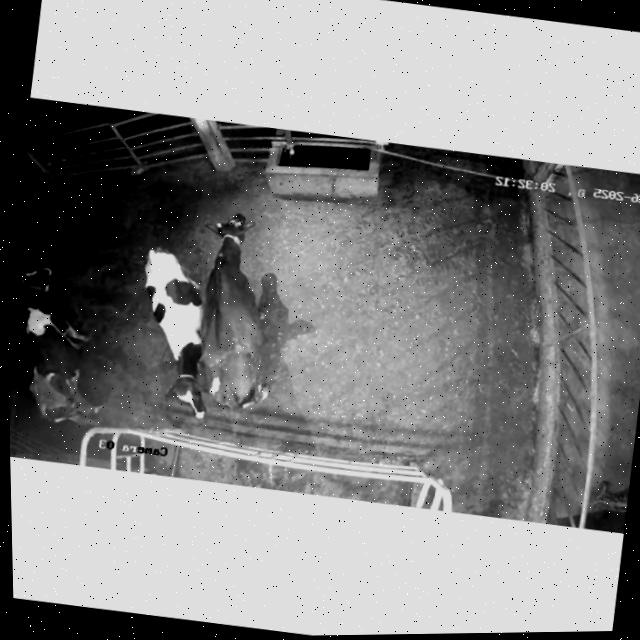stand: (184, 197, 306, 427), (5, 239, 131, 437), (122, 233, 232, 430)
